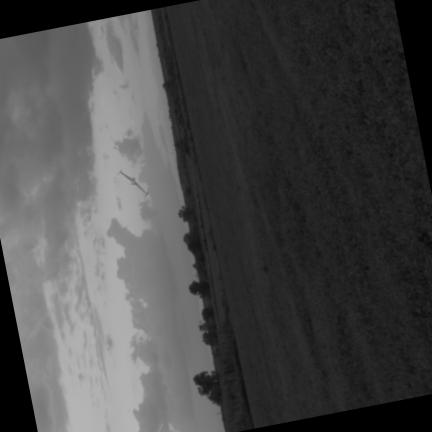Shahed: (118, 169, 148, 195)
